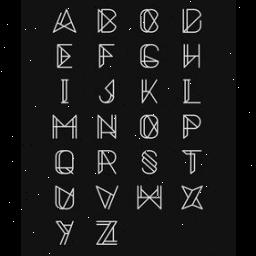i: (50, 74, 76, 106)
k: (134, 74, 164, 114)
l: (176, 74, 210, 108)
m: (43, 110, 87, 142)
